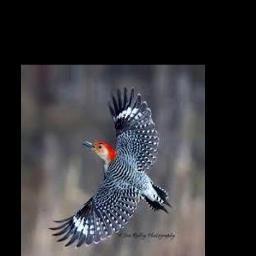Woodpecker: (49, 86, 172, 249)
